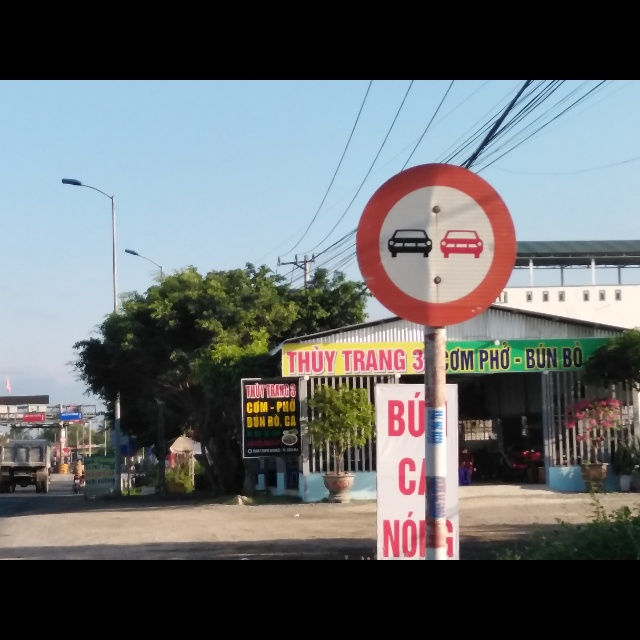Cấm vượt: (355, 163, 520, 328)
